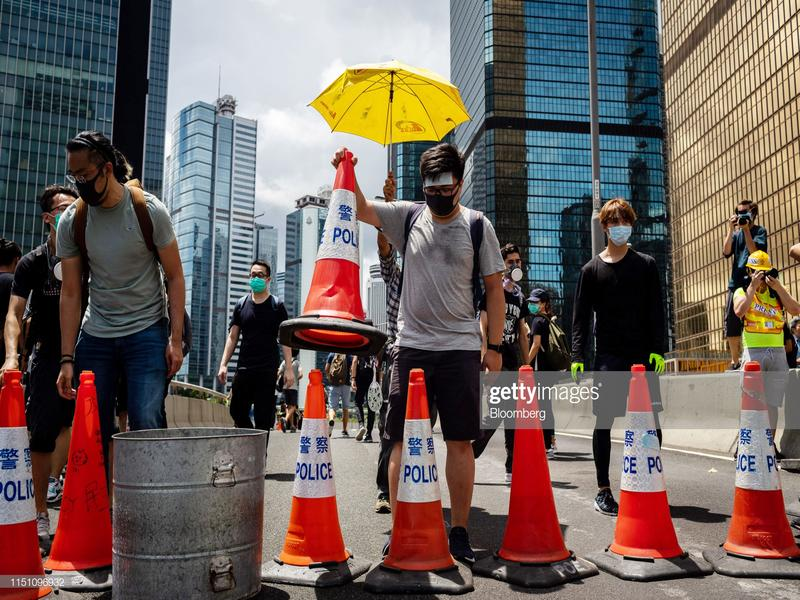Cone: (44, 370, 112, 593)
